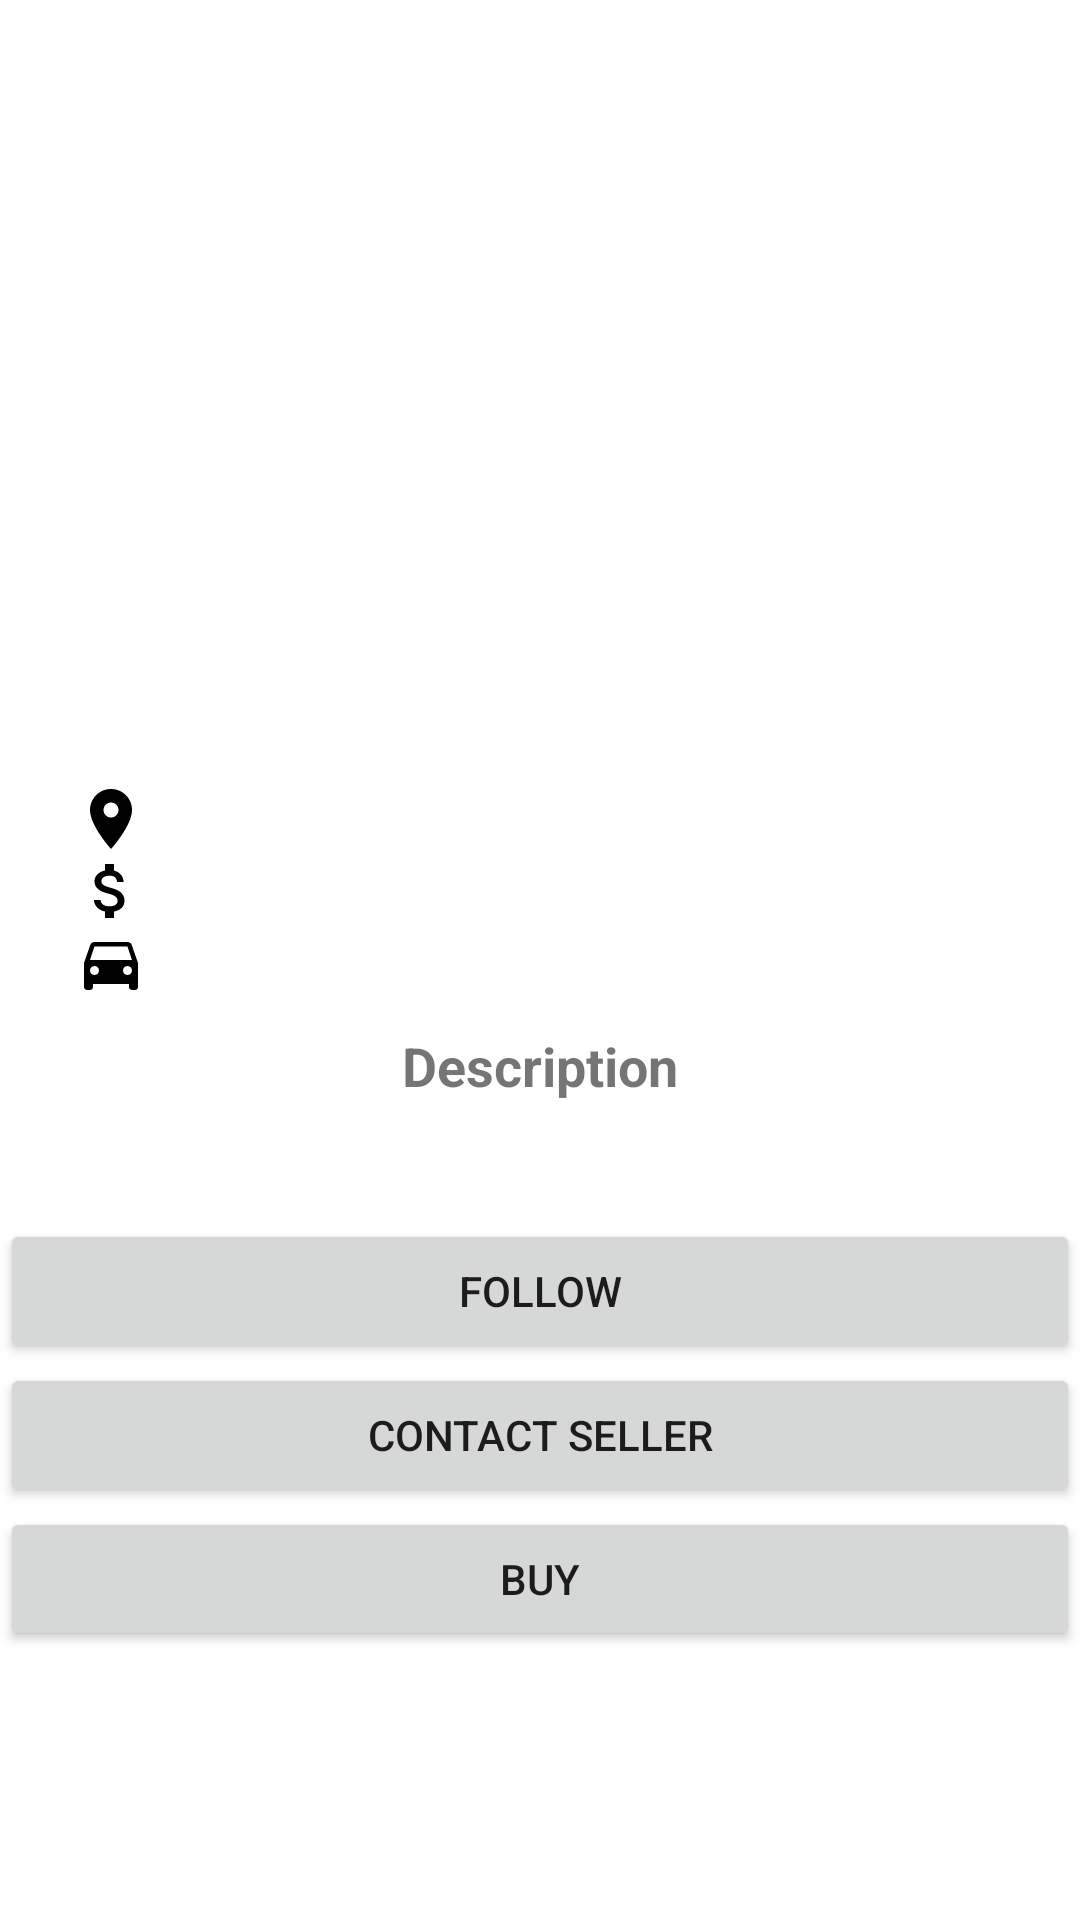

Named icons in this screenshot (1080w x 1920h) and their centers, [x,y]:
attach money: [109,891]
directions car: [111,966]
location on: [111,819]
